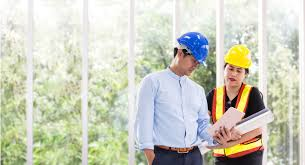Person_wearing_helmet: (161, 28, 214, 65), (219, 40, 250, 71)
